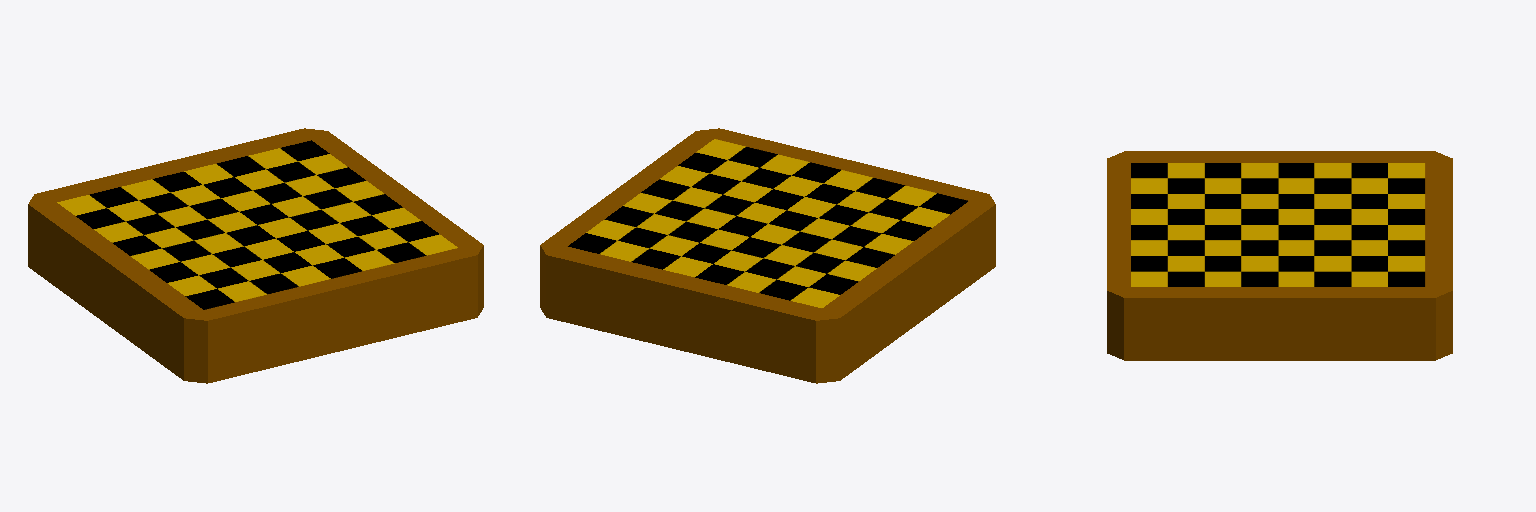
The picture shows the model from 3 angles: view 1: azimuth 30°, elevation 25°; view 2: azimuth 150°, elevation 25°; view 3: azimuth 270°, elevation 25°; orthographic projection.
Visible parts, largest first — view 1: Cube46; view 2: Cube46; view 3: Cube46.
Boxes of the visible parts, x1,y1,x2,y2 form: Cube46: [28, 128, 483, 383]; Cube46: [540, 128, 995, 383]; Cube46: [1107, 151, 1452, 360].
Size of the model in its own units: 0.792 by 0.1584 by 0.792.
1 materials, 1 textured.